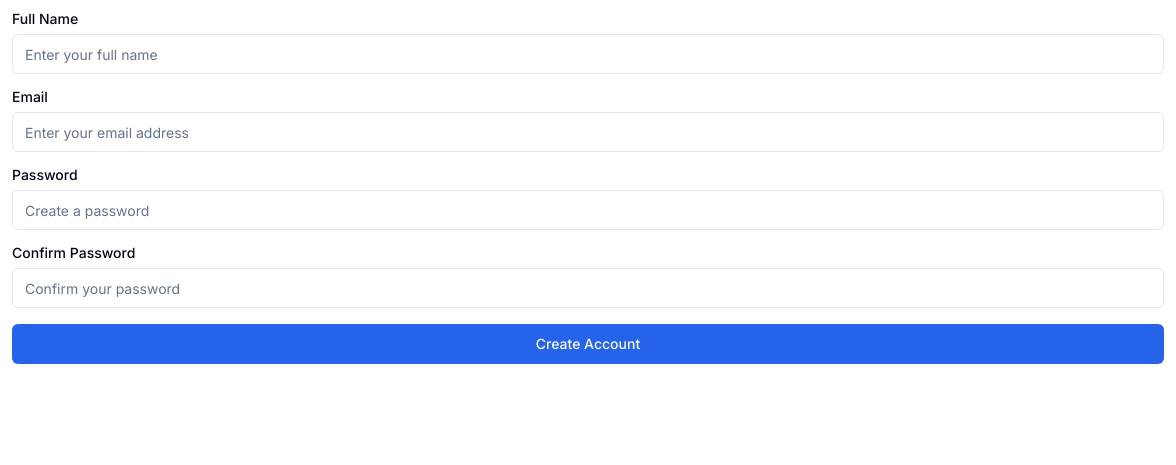
Test: RegistrationForm › should show validation errors for invalid input
The width and height of the screenshot is (1176, 465).
// Submit empty form
Click the button "Create Account": (588,344) left=12, top=324, right=1164, bottom=364
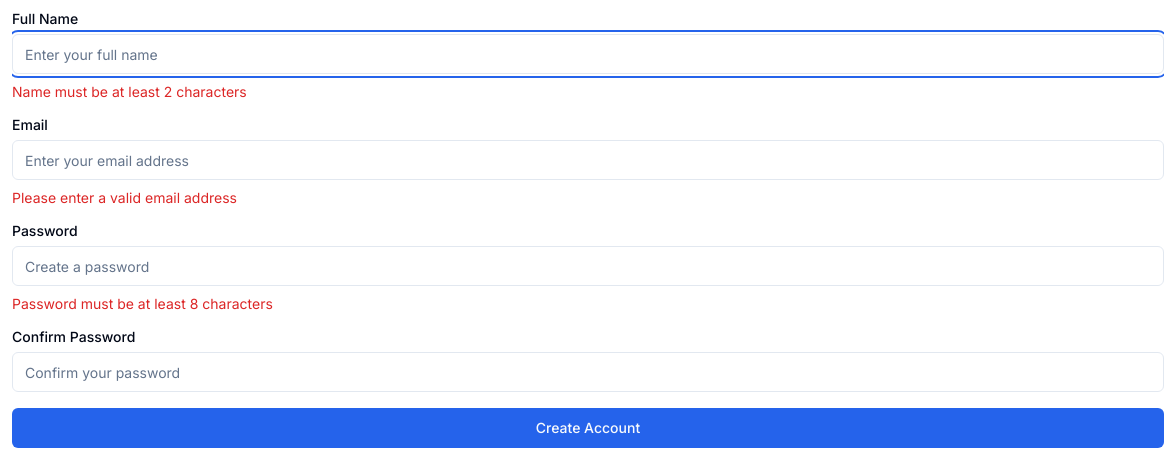
Expected: the text "Name must be at least 2 characters" is shown, left=12, top=83, right=247, bottom=100
Expected: the text "Please enter a valid email address" is shown, left=12, top=189, right=237, bottom=206
Expected: the text "Password must be at least 8 characters" is shown, left=12, top=295, right=273, bottom=312
